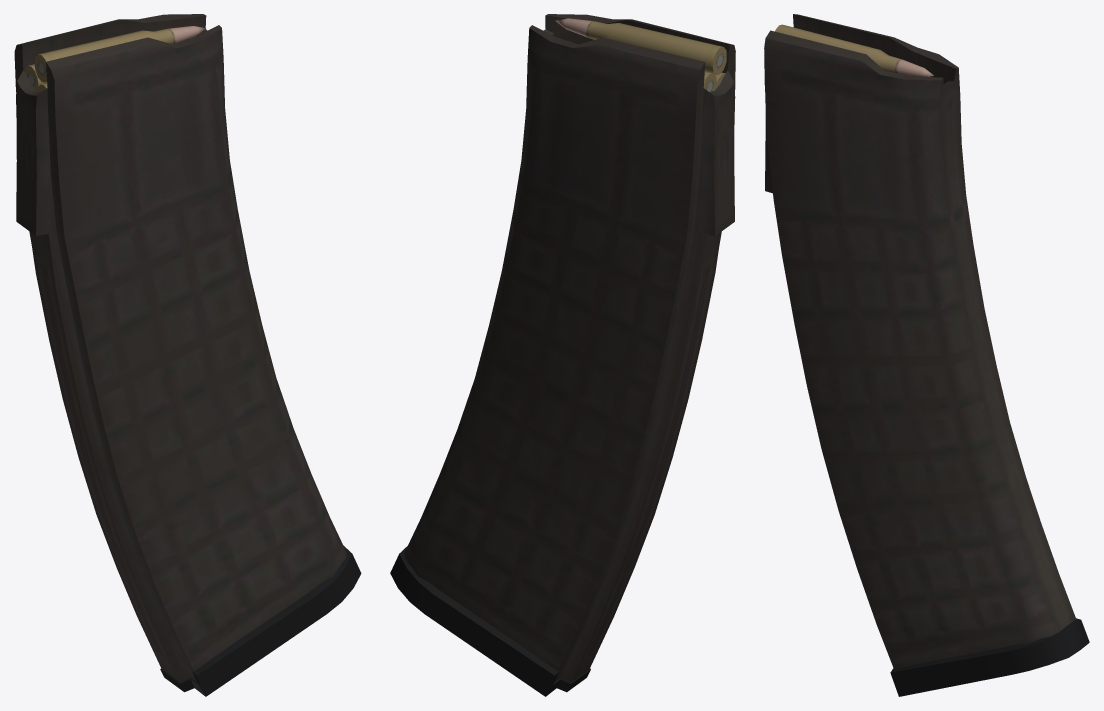
The model's file is ST_MAG_EX_AUGA3.FBX.
3 renders of one model, left to right at view 1: azimuth 30°, elevation 25°; view 2: azimuth 150°, elevation 25°; view 3: azimuth 330°, elevation 25°, orthographic. The views are drawn at different scales.
Visible parts, largest first — view 1: ST_MAG_EX_AUGA3; view 2: ST_MAG_EX_AUGA3; view 3: ST_MAG_EX_AUGA3.
Boxes of the visible parts, bbox=[...] form: ST_MAG_EX_AUGA3: bbox=[14, 14, 361, 696]; ST_MAG_EX_AUGA3: bbox=[390, 14, 735, 696]; ST_MAG_EX_AUGA3: bbox=[764, 14, 1089, 696].
Bounding box in the file's own units: 11.23 × 21.95 × 2.82.
1 material, 1 textured.
